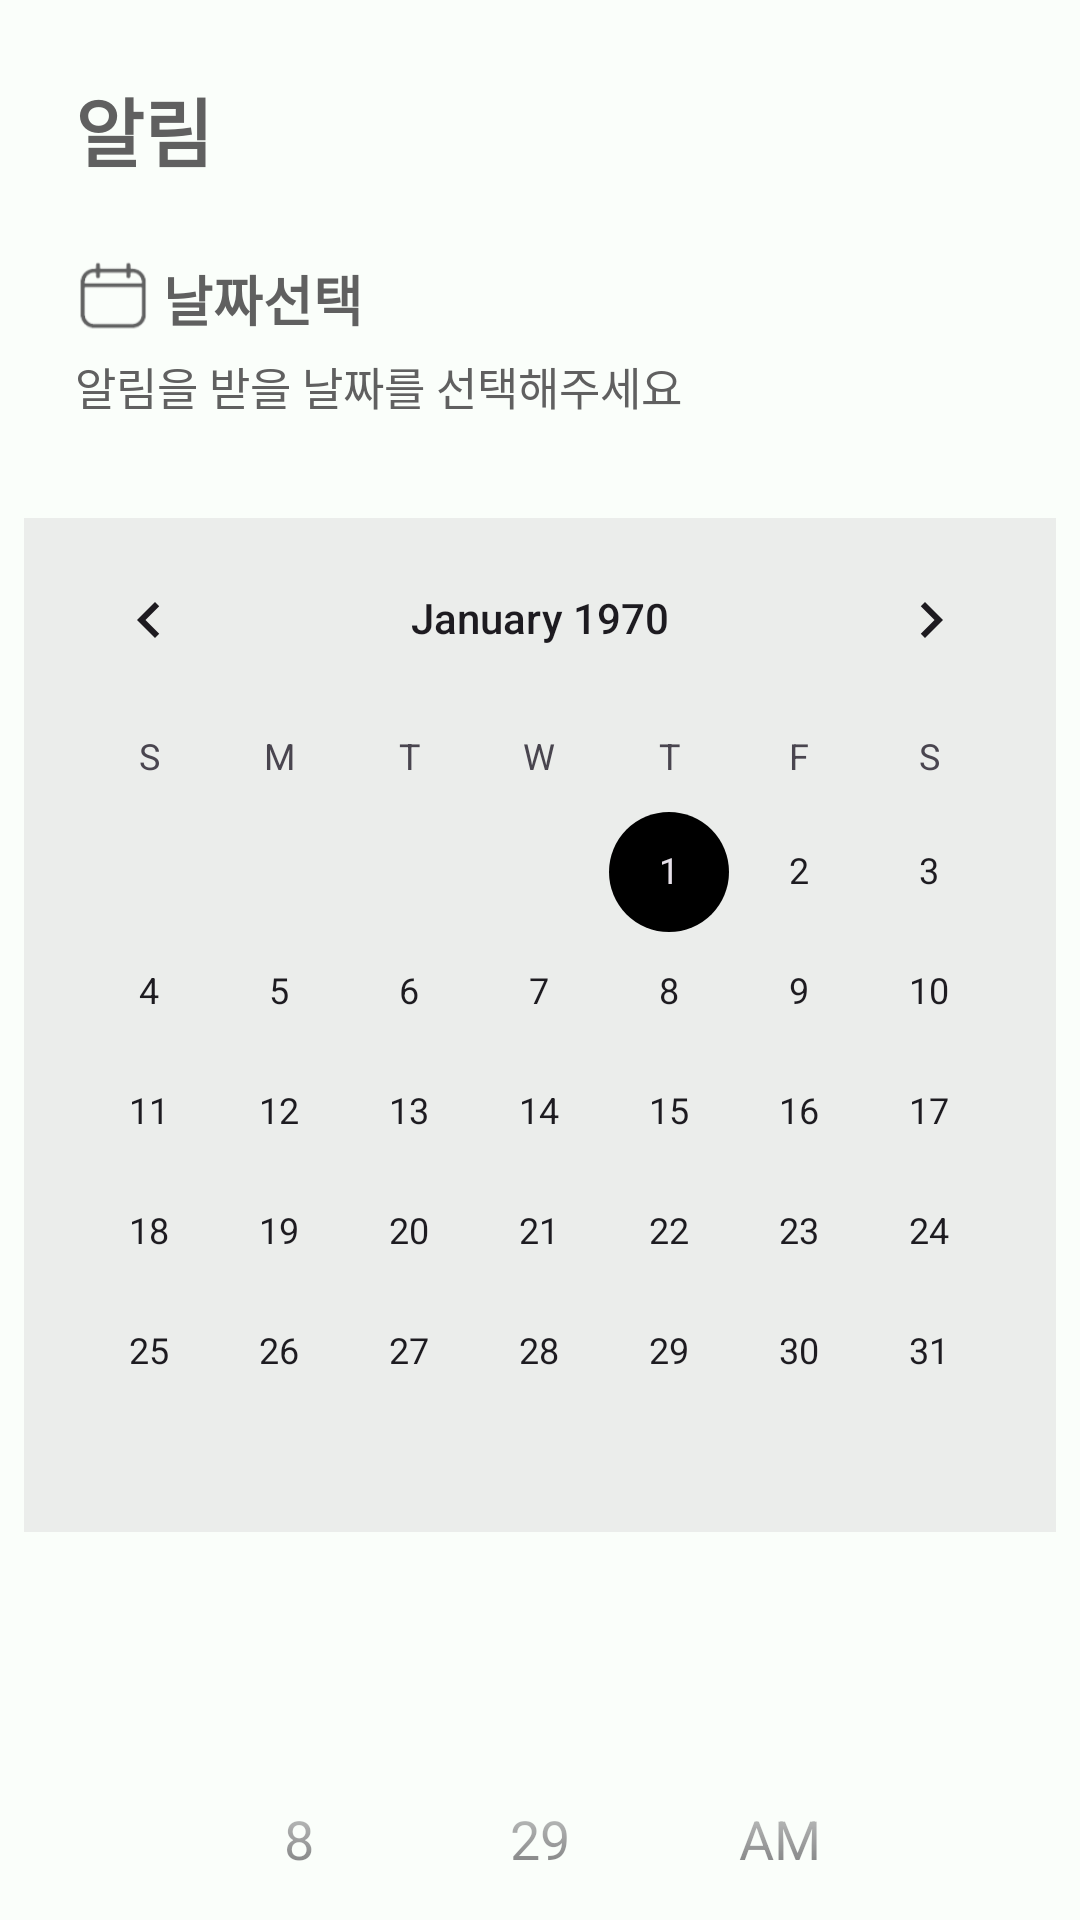

Named icons in this screenshot (1080w x 1920h) and their centers, (x=x, y=y):
instagram calendar: (x=113, y=295)
